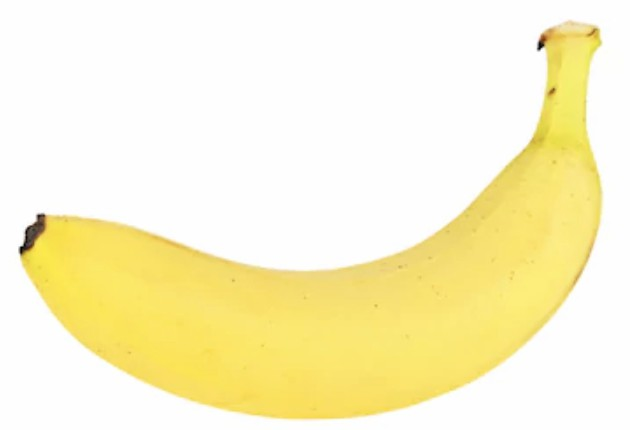fresh_banana: (20, 22, 604, 418)
